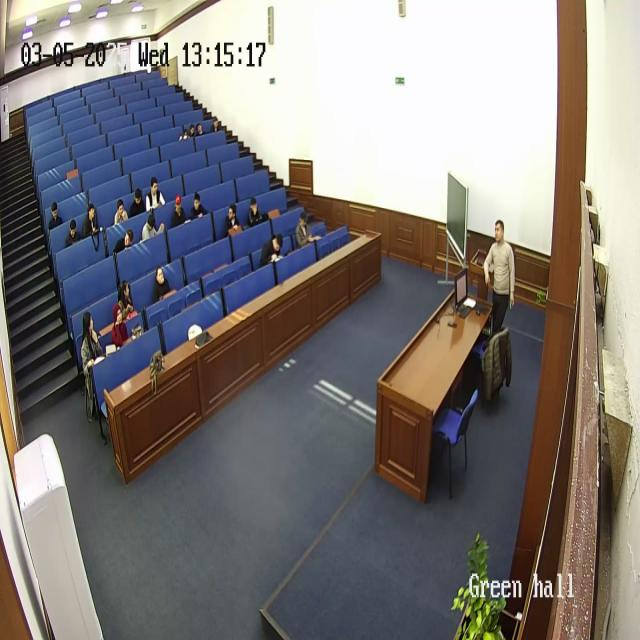person: (483, 219, 516, 337), (80, 312, 106, 416), (294, 210, 318, 250), (110, 302, 130, 348), (259, 232, 283, 269), (118, 280, 138, 322), (152, 266, 172, 305), (142, 210, 164, 241), (246, 196, 267, 228), (82, 203, 100, 238), (170, 193, 188, 227), (147, 177, 165, 211), (224, 206, 244, 236), (114, 229, 134, 256), (190, 191, 208, 221), (112, 198, 130, 227), (66, 217, 82, 247), (130, 187, 146, 216), (48, 201, 64, 230), (208, 115, 222, 132), (194, 121, 204, 137), (187, 124, 197, 139), (180, 129, 188, 141)
